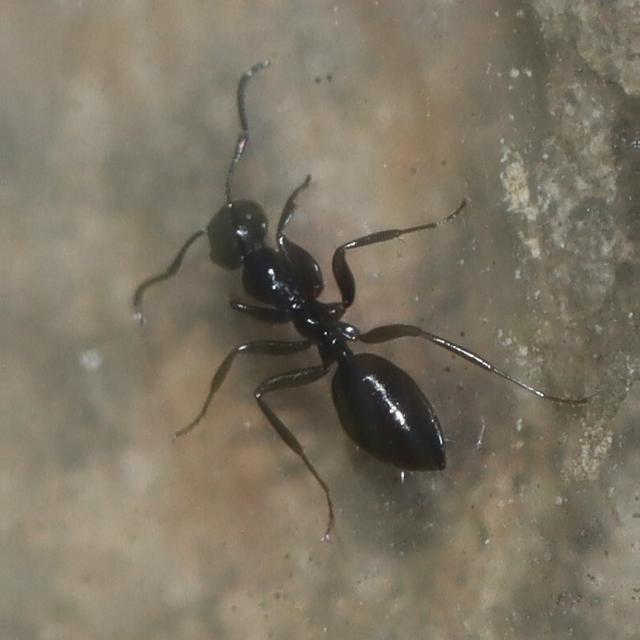Colobopsis: (143, 134, 477, 502)
